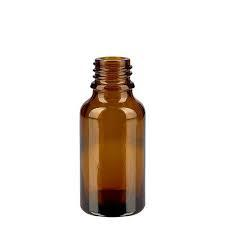glass: (65, 51, 160, 222)
